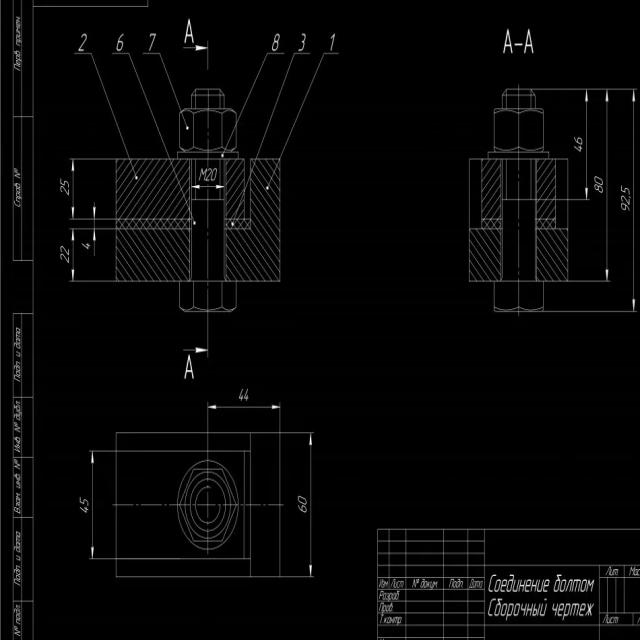marking_line: (569, 86, 638, 314), (570, 87, 611, 283), (68, 156, 116, 283), (281, 431, 315, 579), (544, 283, 638, 316), (68, 157, 115, 222), (89, 449, 115, 560), (67, 225, 116, 283), (550, 88, 588, 158), (570, 87, 592, 202), (207, 402, 281, 432), (184, 313, 210, 358), (182, 41, 209, 71), (91, 227, 116, 259), (92, 199, 116, 221), (534, 88, 637, 92), (191, 184, 224, 189)
numeric: (78, 32, 88, 53), (271, 33, 281, 52), (298, 33, 306, 52), (116, 33, 124, 52), (148, 33, 156, 51), (329, 33, 336, 51), (620, 184, 631, 195), (620, 195, 631, 205), (298, 494, 308, 505), (60, 186, 70, 196), (60, 178, 70, 188), (573, 136, 583, 145), (594, 176, 603, 186), (60, 253, 69, 263), (60, 245, 69, 255), (81, 242, 91, 251), (297, 505, 307, 514), (238, 387, 244, 401), (206, 168, 212, 182), (595, 184, 604, 193), (621, 203, 630, 212), (80, 497, 89, 506), (211, 168, 217, 181), (245, 388, 250, 401), (574, 145, 582, 152), (80, 507, 89, 513)
